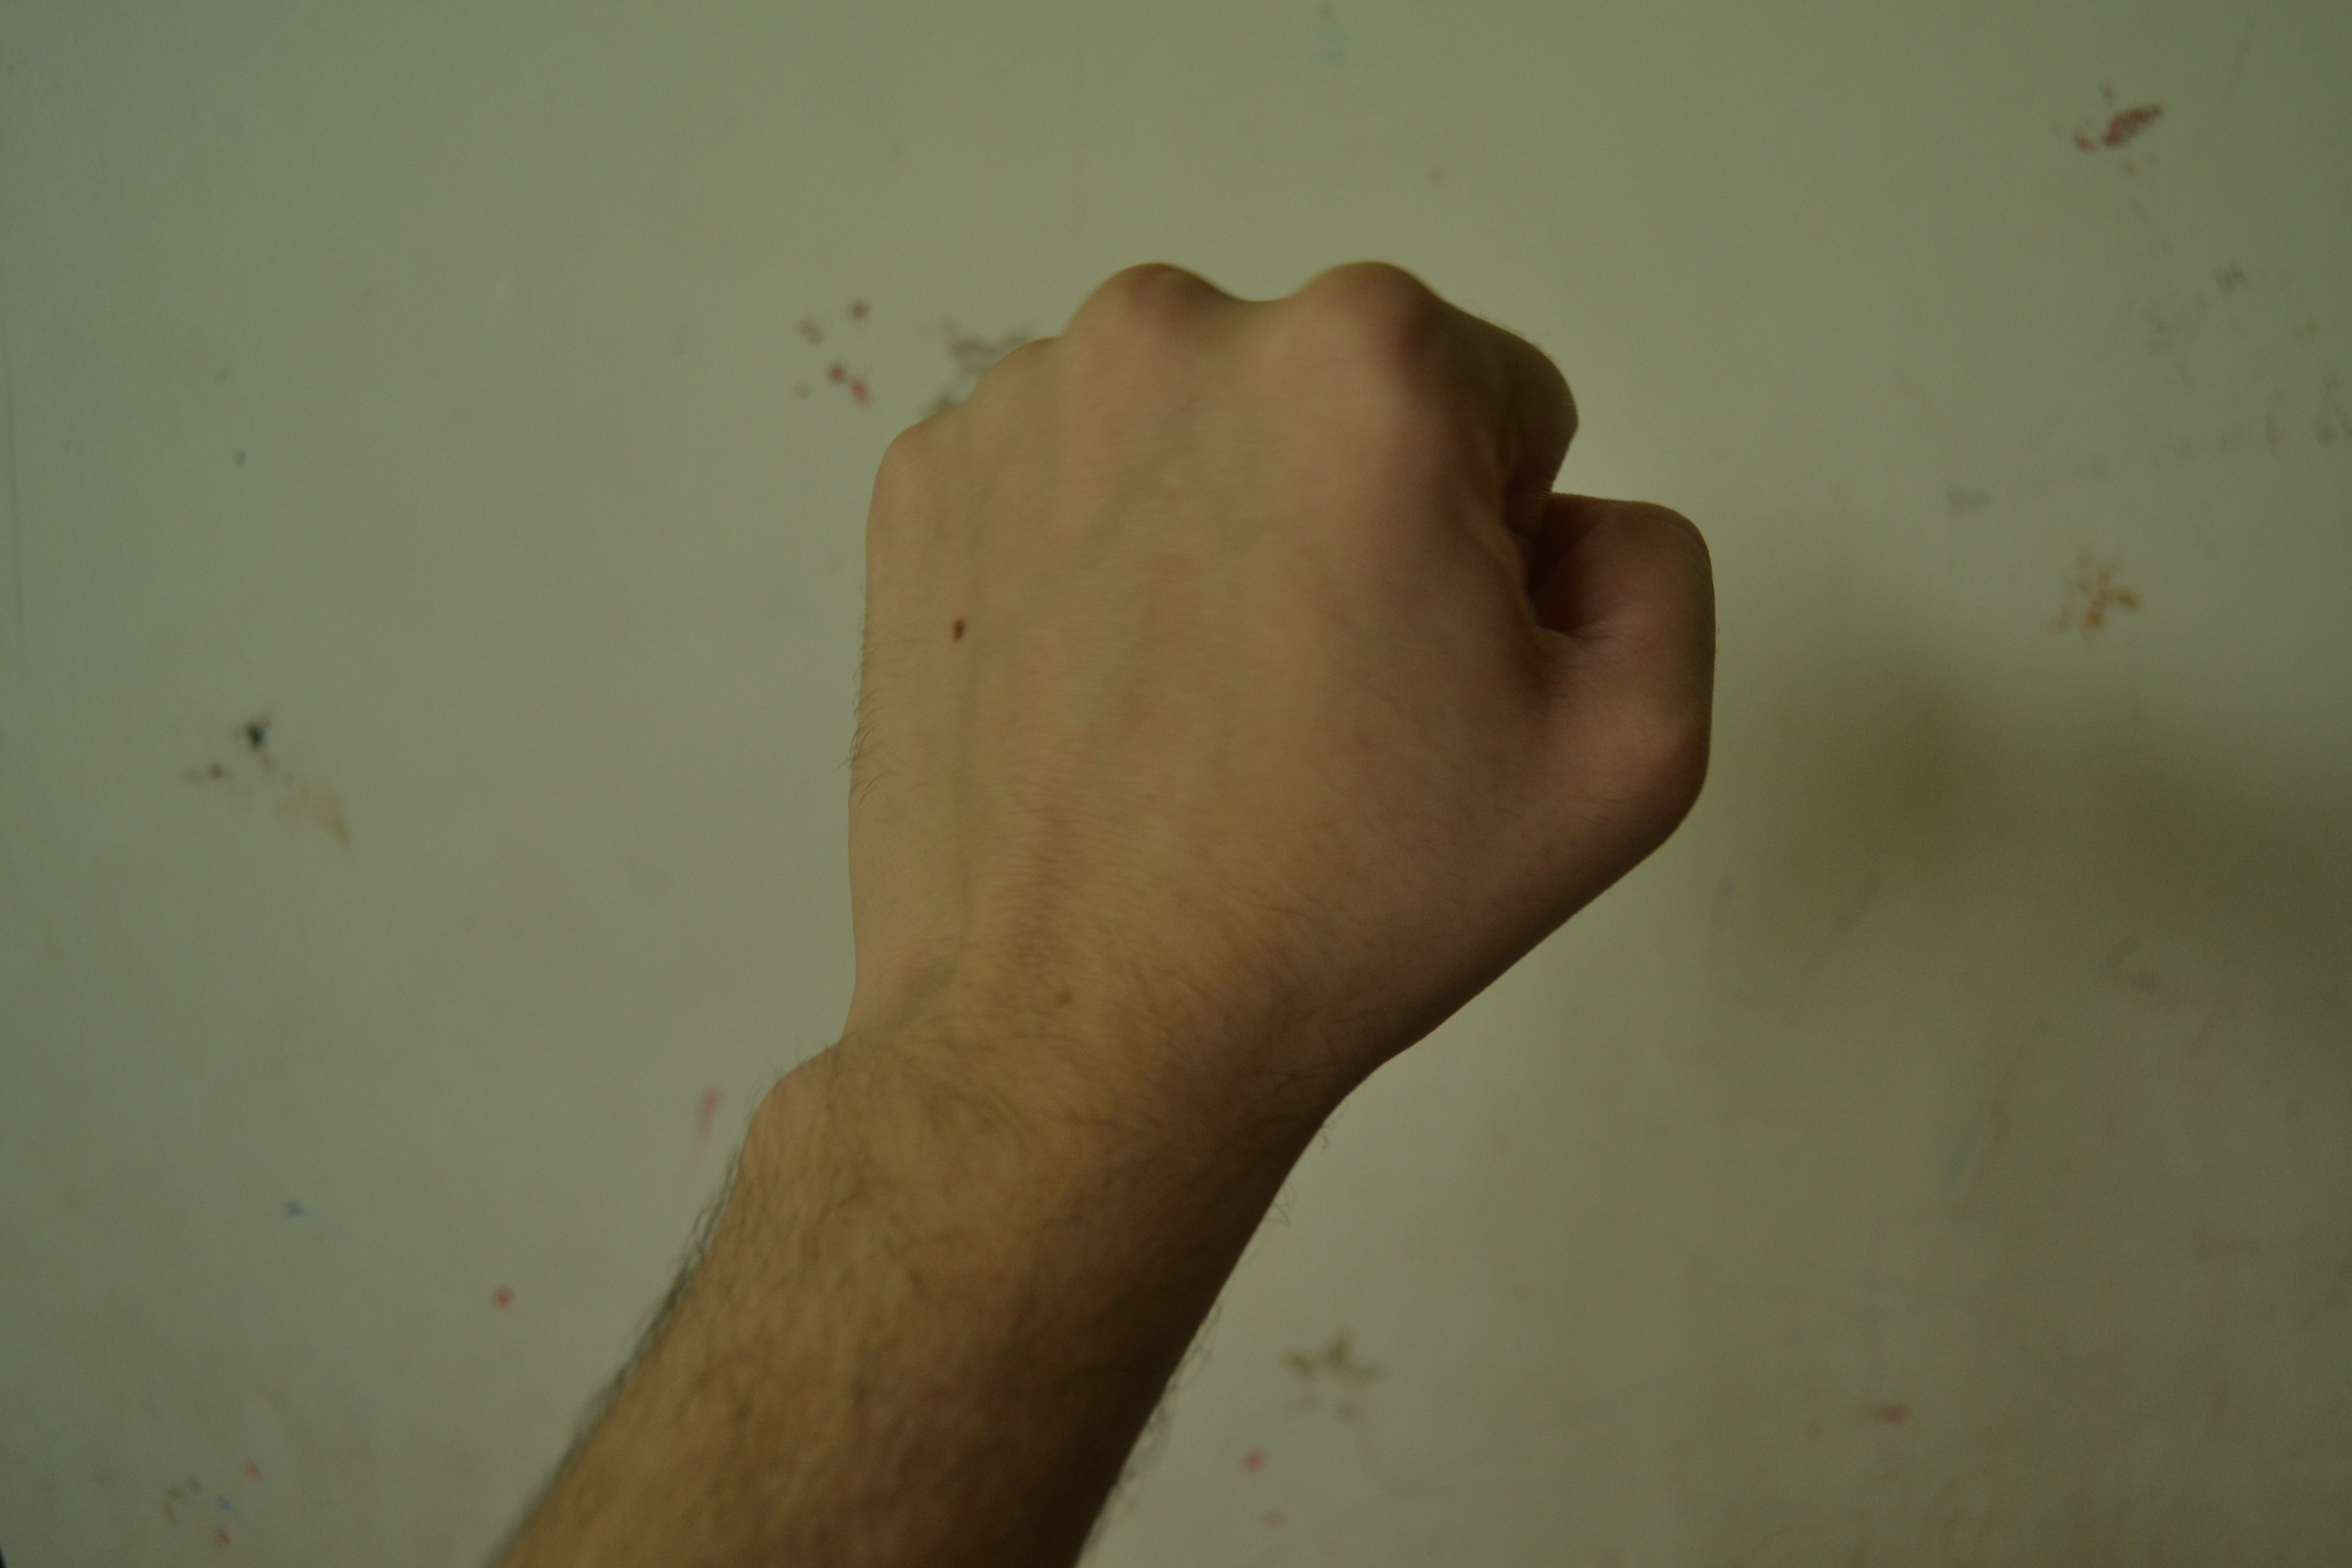click: (801, 213, 1801, 1568)
